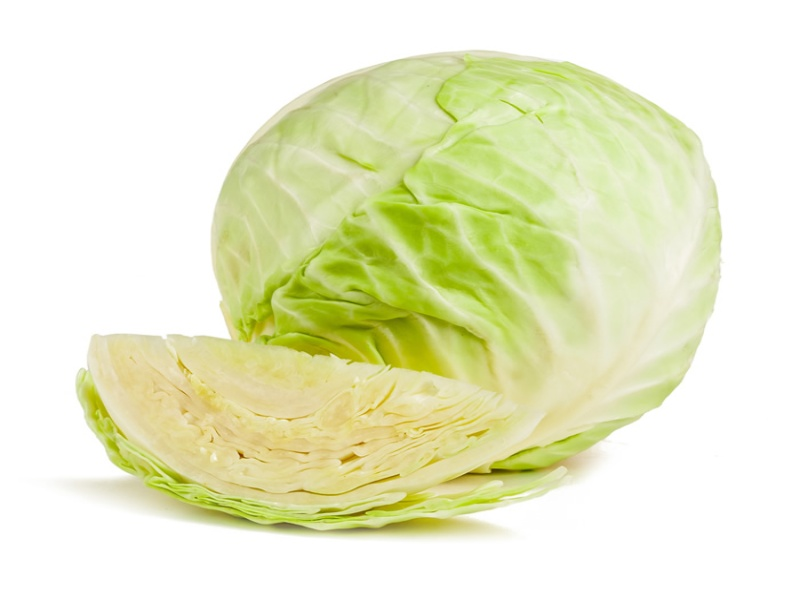Repollo: (207, 38, 727, 471), (57, 311, 562, 564)
